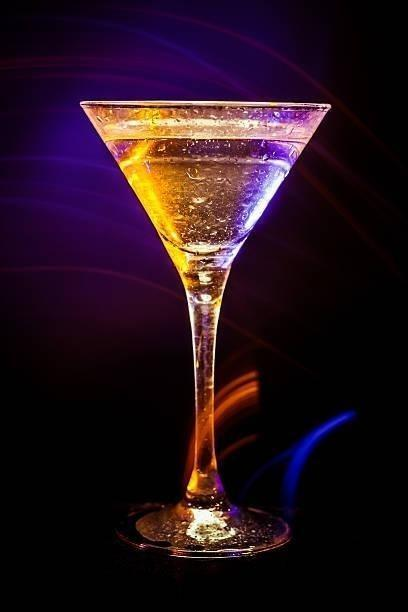glass-wine: (78, 95, 331, 558)
